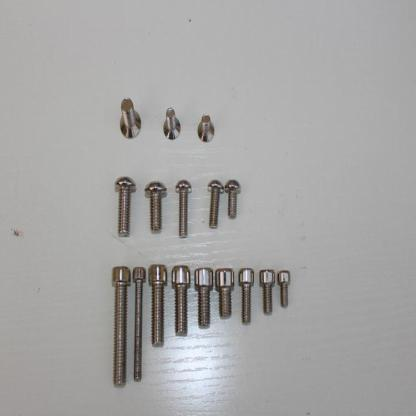FOD: (109, 262, 131, 390), (130, 262, 147, 385), (147, 261, 168, 349), (113, 174, 138, 240), (170, 264, 192, 338), (193, 263, 214, 331), (173, 176, 194, 238), (144, 180, 167, 235), (214, 266, 236, 321), (237, 265, 256, 324), (118, 99, 143, 142), (258, 268, 277, 316), (206, 178, 223, 231), (161, 106, 182, 145), (223, 178, 242, 220), (196, 110, 216, 145), (277, 268, 292, 310)
